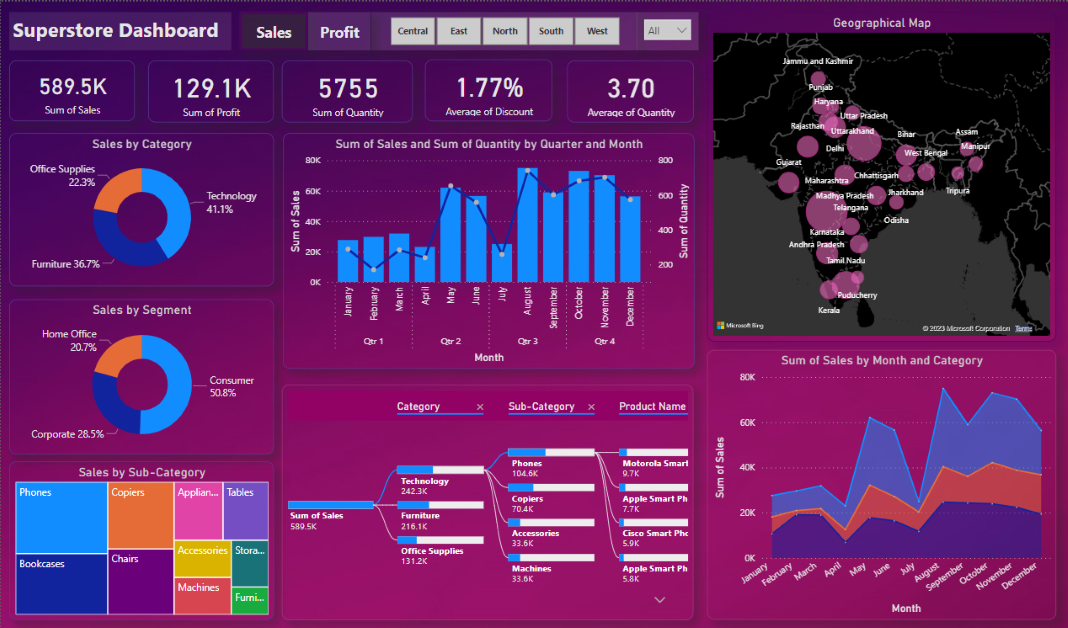

This screenshot's page, from the dashboard's own definition file:
{"tool":"powerbi","page":{"name":"Sales","canvas":[1450,850],"ordinal":0},"visuals":[{"type":"donutChart","title":"Sales by Segment","fields":{"Category":["Orders.Segment"],"Y":["Sum(Orders.Sales)"]},"box":[11.5,404.1,359.3,210.7],"z":0},{"type":"treemap","title":"Sales by Sub-Category","fields":{"Group":["Orders.Sub-Category"],"Values":["Sum(Orders.Sales)"]},"box":[11.5,624.9,359.3,215],"z":1000},{"type":"map","title":"Geographical Map","fields":{"Category":["Orders.State"],"Size":["Sum(Orders.Sales)"]},"box":[958.2,14.4,473.3,447.4],"z":2000},{"type":"card","fields":{"Values":["Sum(Orders.Sales)"]},"box":[11.5,79.4,170.3,82.3],"z":3000},{"type":"card","fields":{"Values":["Sum(Orders.Profit)"]},"box":[200.6,79.4,170.3,83.7],"z":4000},{"type":"card","fields":{"Values":["Sum(Orders.Quantity)"]},"box":[381,79.4,177.5,83.7],"z":5000},{"type":"card","fields":{"Values":["Avg(Orders.Discount)"]},"box":[575.8,77.9,173.2,83.7],"z":6000},{"type":"textbox","box":[11.5,14.4,301.6,52],"z":7000},{"type":"slicer","fields":{"Values":["Zone.Zone"]},"box":[502.2,14.4,360.8,52],"z":8000},{"type":"decompositionTreeVisual","fields":{"ExplainBy":["Orders.Category","Orders.Sub-Category","Orders.Product Name"],"Analyze":["Sum(Orders.Sales)"]},"box":[381,519.5,558.5,320.4],"z":9000},{"type":"lineStackedColumnComboChart","fields":{"Category":["Orders.Order Date.Variation.Date Hierarchy.Quarter","Orders.Order Date.Variation.Date Hierarchy.Month"],"Y":["Sum(Orders.Sales)"],"Y2":["Sum(Orders.Quantity)"]},"box":[382.4,178.9,558.5,320.4],"z":10000},{"type":"actionButton","box":[324.7,14.4,92.4,52],"z":11000},{"type":"actionButton","box":[417.1,14.4,85.1,52],"z":12000},{"type":"donutChart","title":"Sales by Category","fields":{"Category":["Orders.Category"],"Y":["Sum(Orders.Sales)"]},"box":[11.5,178.9,359.3,207.8],"z":13000},{"type":"card","fields":{"Values":["Avg(Orders.Quantity)"]},"box":[769.2,79.4,171.7,83.7],"z":14000},{"type":"stackedAreaChart","fields":{"Category":["Orders.Order Date.Variation.Date Hierarchy.Month"],"Y":["Sum(Orders.Sales)"],"Series":["Orders.Category"]},"box":[958.2,473.3,473.3,366.6],"z":15000},{"type":"slicer","fields":{"Values":["Orders.State"]},"box":[863,14.4,83.7,52],"z":16000}]}

Visuals, with their boxes in screenshot pixels (x1, y1, x2, y2), scaled from the page's 1450x850 canvas onto the 1068x628 screenshot:
"Sales by Segment" donutChart: {"x1": 8, "y1": 299, "x2": 273, "y2": 454}
"Sales by Sub-Category" treemap: {"x1": 8, "y1": 462, "x2": 273, "y2": 621}
"Geographical Map" map: {"x1": 706, "y1": 11, "x2": 1054, "y2": 341}
card - Sum(Orders.Sales): {"x1": 8, "y1": 59, "x2": 134, "y2": 119}
card - Sum(Orders.Profit): {"x1": 148, "y1": 59, "x2": 273, "y2": 121}
card - Sum(Orders.Quantity): {"x1": 281, "y1": 59, "x2": 411, "y2": 121}
card - Avg(Orders.Discount): {"x1": 424, "y1": 58, "x2": 552, "y2": 119}
textbox: {"x1": 8, "y1": 11, "x2": 231, "y2": 49}
slicer - Zone.Zone: {"x1": 370, "y1": 11, "x2": 636, "y2": 49}
decompositionTreeVisual - Orders.Category x Orders.Sub-Category: {"x1": 281, "y1": 384, "x2": 692, "y2": 621}
lineStackedColumnComboChart - Orders.Order Date.Variation.Date Hierarchy.Quarter x Orders.Order Date.Variation.Date Hierarchy.Month: {"x1": 282, "y1": 132, "x2": 693, "y2": 369}
actionButton: {"x1": 239, "y1": 11, "x2": 307, "y2": 49}
actionButton: {"x1": 307, "y1": 11, "x2": 370, "y2": 49}
"Sales by Category" donutChart: {"x1": 8, "y1": 132, "x2": 273, "y2": 286}
card - Avg(Orders.Quantity): {"x1": 567, "y1": 59, "x2": 693, "y2": 121}
stackedAreaChart - Orders.Order Date.Variation.Date Hierarchy.Month x Sum(Orders.Sales): {"x1": 706, "y1": 350, "x2": 1054, "y2": 621}
slicer - Orders.State: {"x1": 636, "y1": 11, "x2": 697, "y2": 49}
